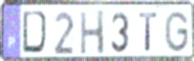2: (52, 10, 76, 56)
3: (110, 11, 130, 54)
D: (21, 10, 51, 57)
G: (163, 10, 190, 54)
H: (79, 9, 106, 56)
T: (138, 11, 159, 54)
